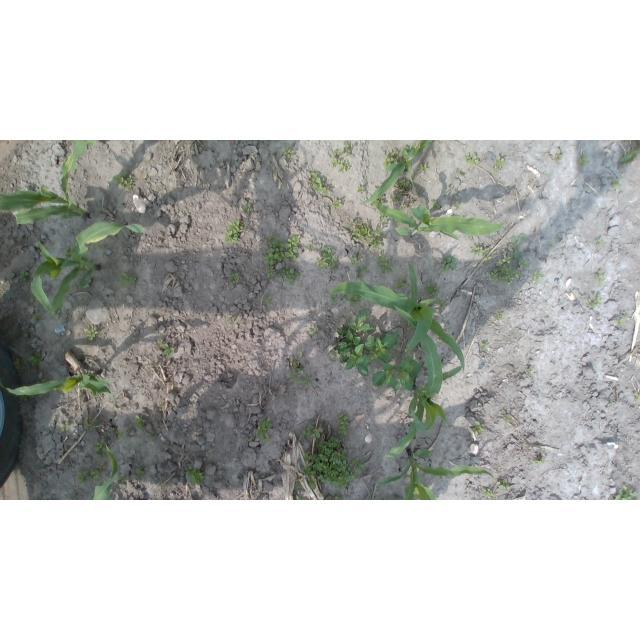Maize: (330, 263, 465, 374), (385, 305, 462, 459), (31, 221, 145, 319), (0, 141, 96, 224), (371, 195, 508, 242), (377, 448, 495, 501), (362, 140, 435, 204), (1, 373, 118, 404), (93, 442, 120, 500)
Weeds: (329, 311, 400, 378), (312, 438, 365, 489), (372, 356, 421, 392), (263, 235, 301, 266), (353, 225, 388, 251), (489, 256, 520, 285), (317, 247, 340, 270), (310, 171, 332, 195), (619, 140, 640, 165), (224, 220, 244, 243), (509, 233, 526, 259), (279, 264, 300, 284), (112, 172, 133, 192), (256, 420, 272, 445), (300, 423, 324, 439), (336, 411, 350, 437), (612, 486, 638, 500), (186, 467, 204, 486), (93, 437, 108, 459), (376, 254, 393, 273), (120, 272, 137, 289), (157, 341, 176, 356), (290, 362, 304, 382), (84, 324, 99, 341), (442, 255, 457, 272), (425, 283, 440, 299), (464, 152, 479, 167), (134, 415, 146, 432), (28, 352, 41, 367), (76, 471, 89, 486), (472, 244, 488, 256), (493, 157, 505, 173), (587, 296, 601, 309), (472, 421, 484, 436), (300, 466, 316, 477), (356, 265, 368, 279), (399, 179, 413, 191), (91, 469, 102, 484), (343, 140, 353, 156), (229, 272, 241, 285), (301, 376, 314, 388), (396, 276, 408, 289), (384, 156, 397, 168), (348, 296, 360, 309), (496, 480, 510, 491), (595, 270, 605, 285), (338, 160, 350, 172), (578, 156, 590, 168), (616, 314, 628, 326), (534, 271, 545, 284), (18, 270, 28, 283), (327, 493, 345, 500), (351, 251, 360, 265), (483, 488, 494, 499), (331, 200, 342, 211), (500, 411, 512, 421), (283, 147, 293, 159), (265, 267, 276, 277), (379, 213, 389, 224), (117, 429, 128, 439), (434, 300, 446, 309), (333, 148, 345, 157), (330, 292, 339, 304), (84, 419, 94, 429), (264, 295, 273, 306), (331, 157, 340, 168), (32, 312, 43, 321), (136, 468, 145, 479), (308, 479, 317, 489), (418, 164, 428, 173), (60, 424, 70, 433), (430, 200, 440, 209), (389, 149, 400, 157), (64, 247, 72, 258), (611, 180, 619, 191), (309, 324, 319, 332), (304, 452, 312, 462), (148, 431, 156, 441), (340, 295, 347, 306), (556, 149, 563, 160), (228, 316, 237, 324), (308, 243, 317, 251), (596, 238, 605, 246), (243, 204, 251, 213), (497, 311, 504, 321), (480, 341, 488, 349), (345, 220, 352, 229), (534, 459, 544, 465), (82, 256, 90, 263), (120, 476, 127, 484), (68, 493, 76, 500), (484, 255, 492, 262), (521, 260, 528, 268), (296, 495, 307, 500), (634, 392, 640, 401), (528, 369, 537, 375), (379, 196, 385, 205), (390, 195, 396, 203), (400, 204, 406, 212), (98, 463, 106, 469), (456, 170, 464, 176), (295, 480, 301, 487), (358, 186, 365, 192), (352, 220, 360, 225), (31, 294, 36, 302), (445, 188, 450, 196), (610, 402, 615, 409), (410, 198, 415, 205), (110, 428, 115, 434), (248, 438, 253, 443), (455, 204, 459, 210)
